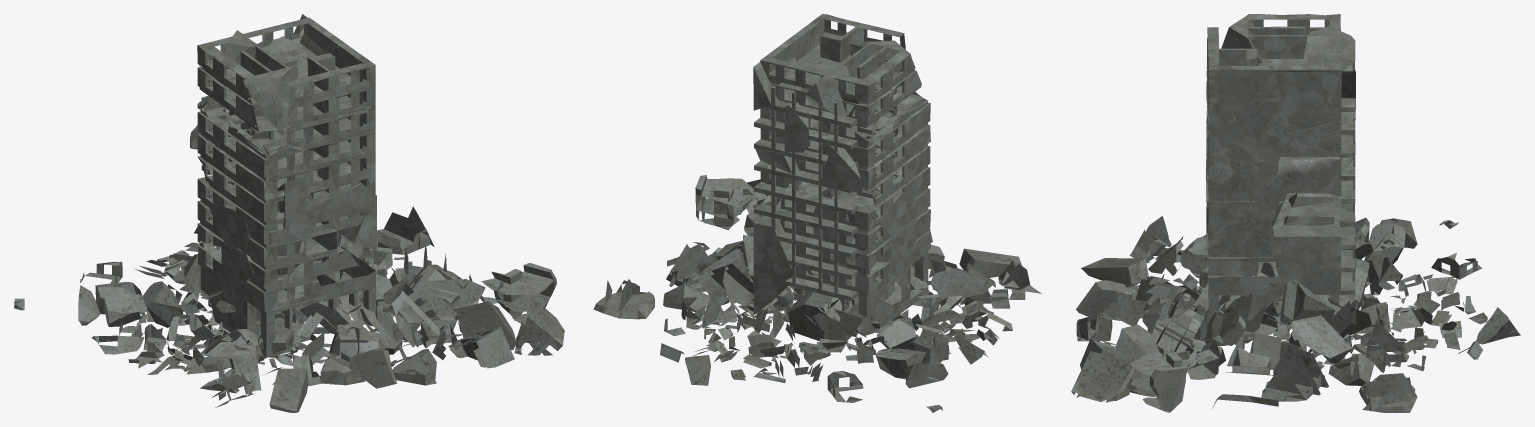
3 views of the same model, side by side, from view 1: azimuth 30°, elevation 25°; view 2: azimuth 150°, elevation 25°; view 3: azimuth 270°, elevation 25° (orthographic). The views are drawn at different scales.
Visible parts, largest first — view 1: base_cell.002; view 2: base_cell.002; view 3: base_cell.002.
Part boxes in pixels (x1=…): base_cell.002: x1=14, y1=14, x2=564, y2=412; base_cell.002: x1=593, y1=14, x2=1041, y2=412; base_cell.002: x1=1071, y1=14, x2=1520, y2=412.
Bounding box in the file's own units: 72.17 × 48.33 × 69.86.
1 material, 1 textured.
